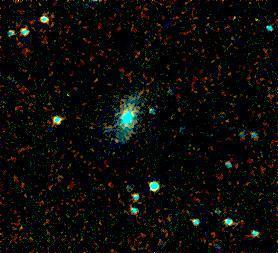star: (239, 6, 269, 36)
